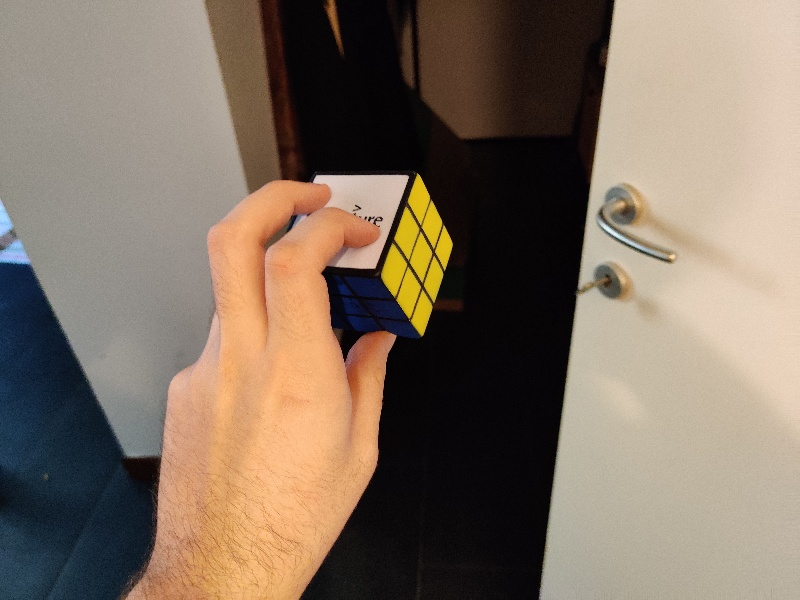rubik: (293, 173, 454, 337)
